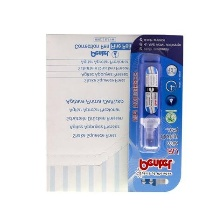book: (44, 32, 167, 195), (124, 33, 185, 194)
correction_fluid: (133, 51, 163, 153)
